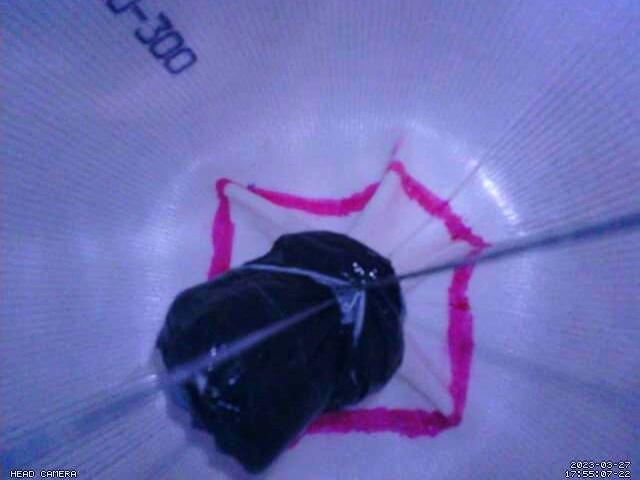red-circle: (206, 159, 490, 439)
